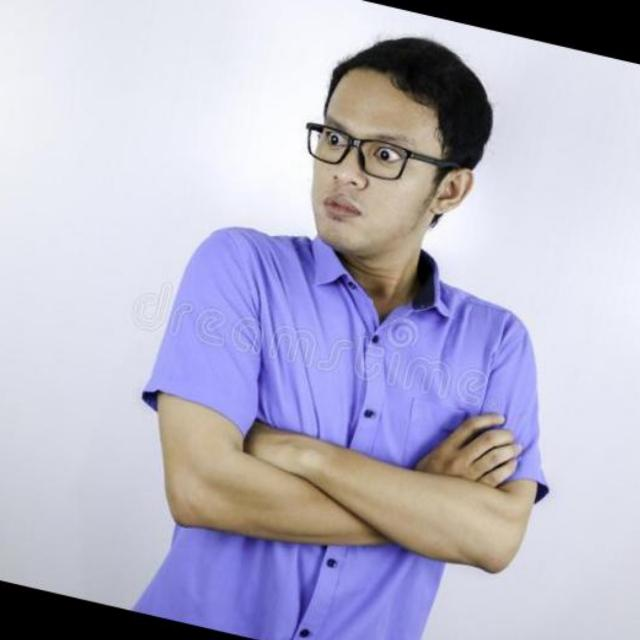Surprised: (286, 32, 521, 337)
